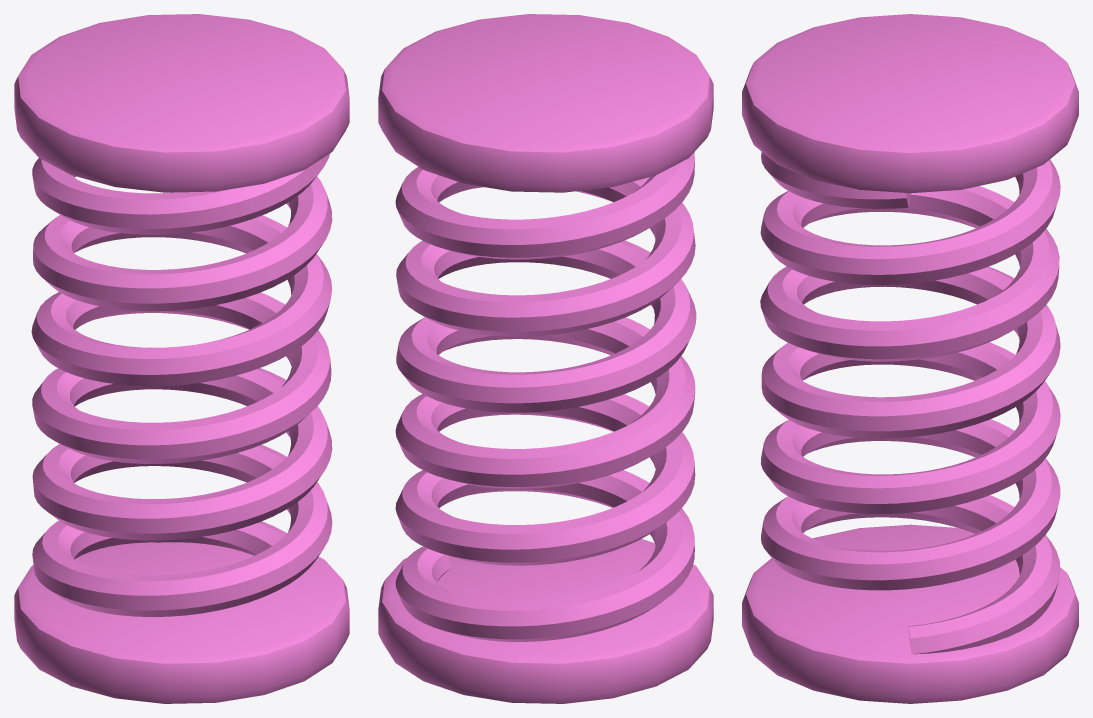
File: Item_Spring.fbx
3 renders of one model, left to right at view 1: azimuth 30°, elevation 25°; view 2: azimuth 150°, elevation 25°; view 3: azimuth 270°, elevation 25°, orthographic.
Parts seen in each view (by area): view 1: Spring; view 2: Spring; view 3: Spring.
Part boxes in pixels (x1=…): Spring: x1=14, y1=14, x2=349, y2=703; Spring: x1=378, y1=14, x2=713, y2=703; Spring: x1=742, y1=14, x2=1078, y2=703.
Bounding box in the file's own units: 2.6 × 4.75 × 2.6.
1 material, 1 textured.
